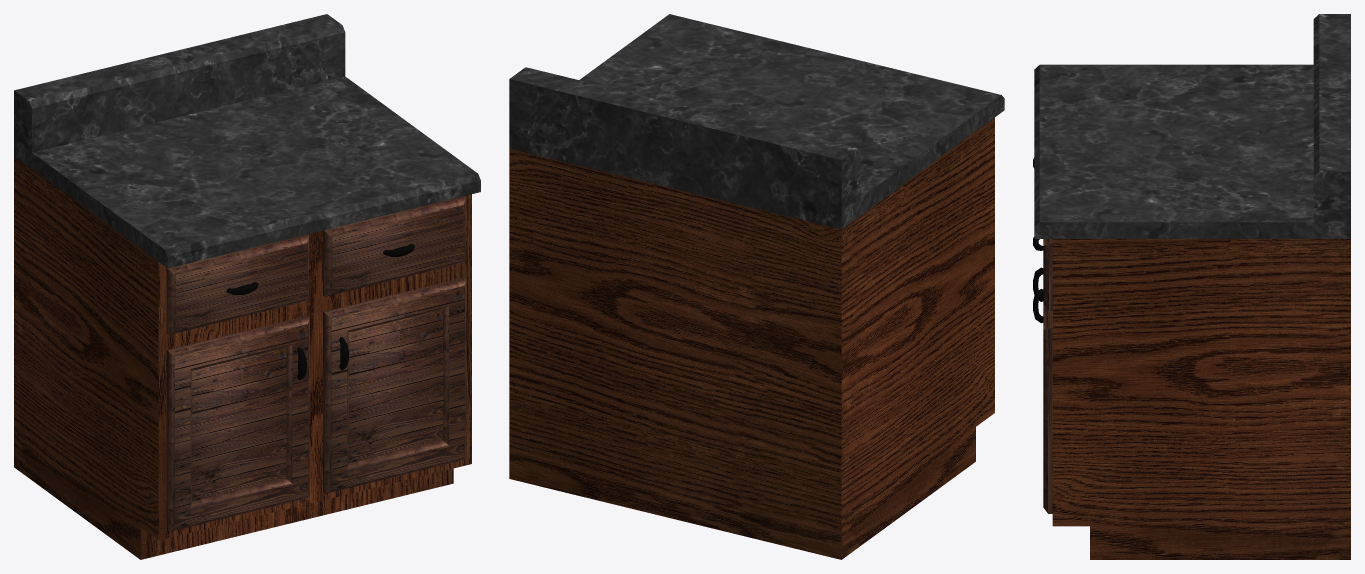
Rendered from kitchen_full.glb.
3 views of the same model, side by side, from view 1: azimuth 30°, elevation 25°; view 2: azimuth 150°, elevation 25°; view 3: azimuth 270°, elevation 25° (orthographic). The views are drawn at different scales.
Visible parts, largest first — view 1: object9, object8, object6.001, object7, object1.008, object4.005; view 2: object8, object9; view 3: object8, object9, object6.001, object4.005.
Boxes of the visible parts, x1,y1,x2,y2 form: object9: (14, 14, 480, 268); object8: (14, 156, 471, 559); object6.001: (323, 277, 466, 493); object7: (166, 315, 309, 531); object1.008: (166, 234, 309, 334); object4.005: (323, 196, 465, 296); object8: (509, 117, 994, 559); object9: (509, 14, 1004, 229); object8: (1052, 239, 1350, 559); object9: (1034, 14, 1350, 238); object6.001: (1043, 304, 1052, 513); object4.005: (1043, 239, 1052, 310).
Bounding box in the file's own units: 1 × 1.15 × 0.8531.
4 materials, 3 textured.
